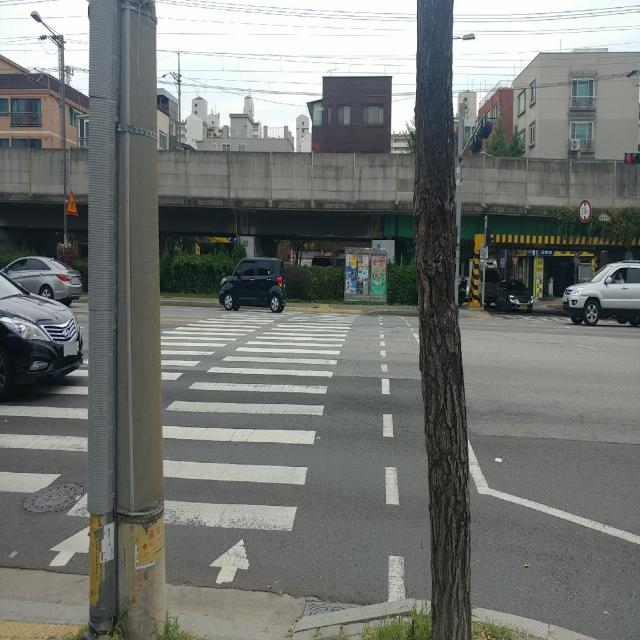횡단보도: (0, 310, 361, 586)
